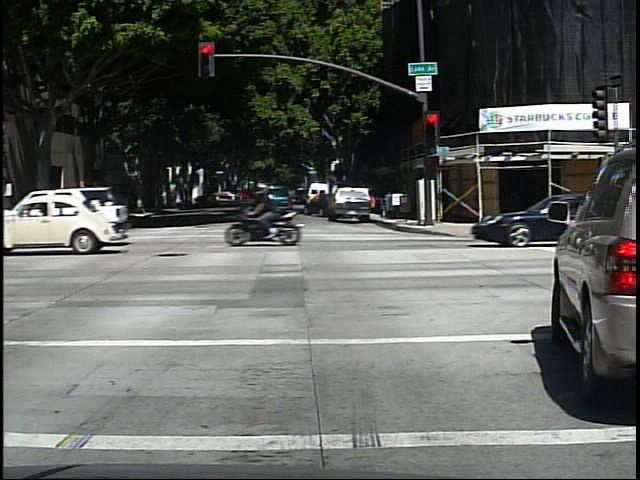person: (262, 179, 301, 240), (61, 191, 73, 224)
